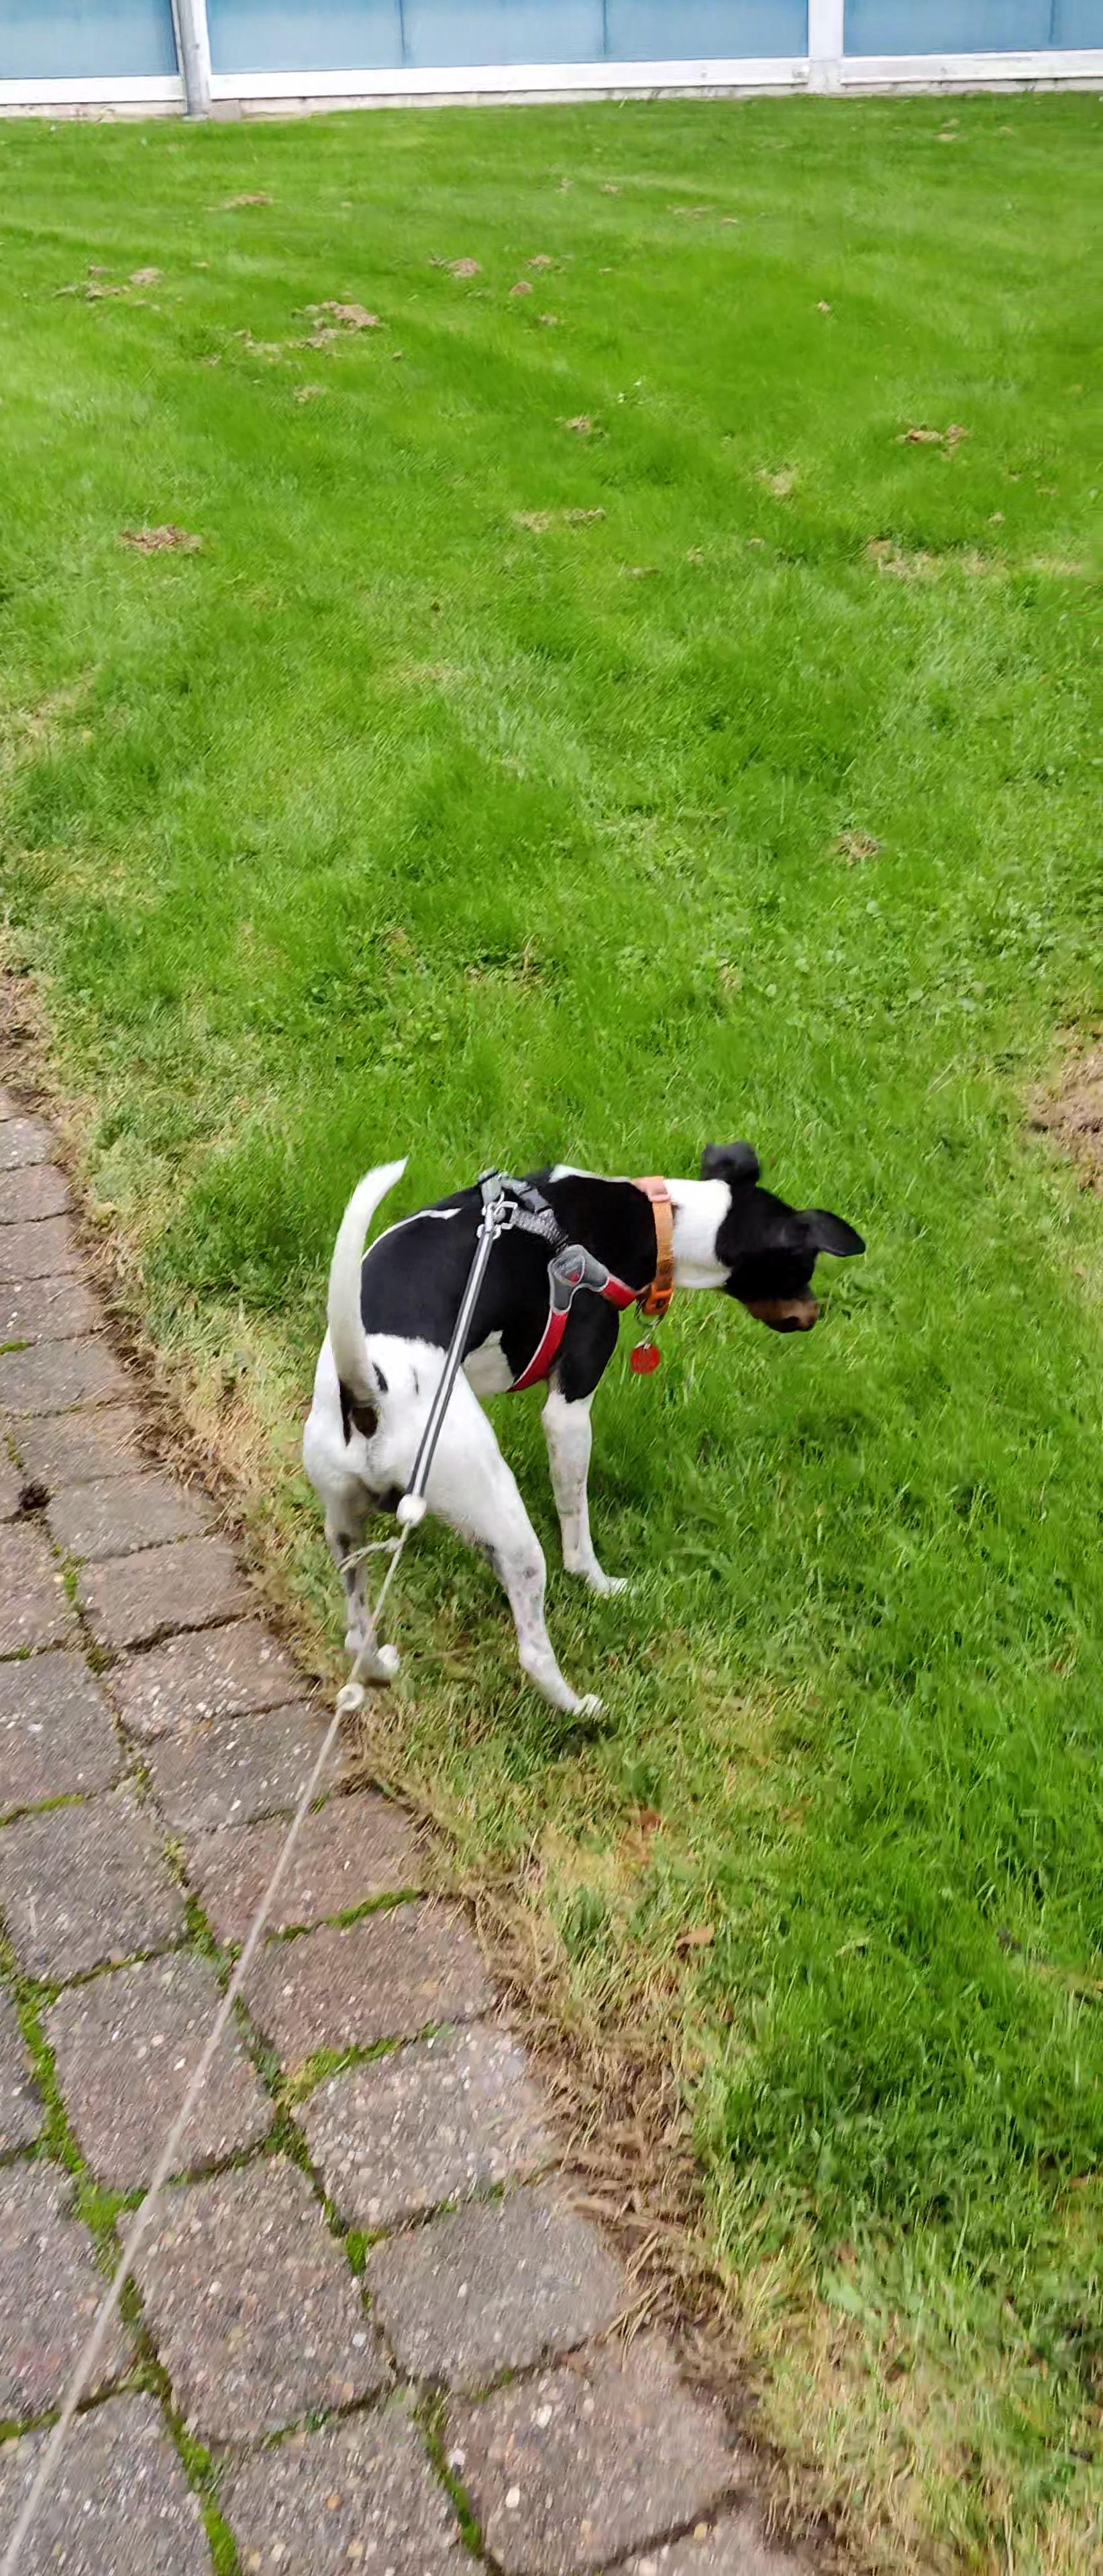Dog: (268, 1109, 884, 1738)
